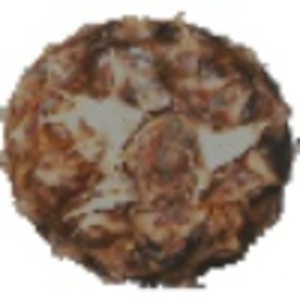abacaxi: (5, 11, 285, 277)
